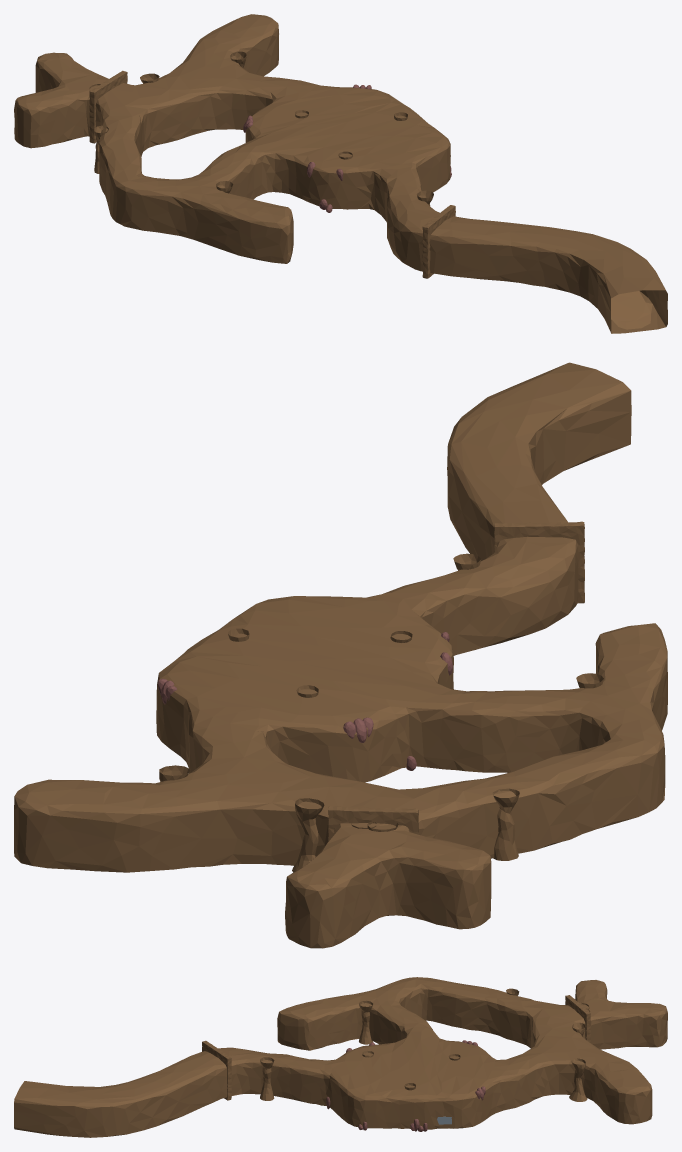
Rendered from Level1_Backup3.fbx.
3 renders of one model, top to bottom at view 1: azimuth 30°, elevation 25°; view 2: azimuth 150°, elevation 25°; view 3: azimuth 270°, elevation 25°, orthographic. The views are drawn at different scales.
Visible parts, largest first — view 1: Cave, CaveExit.001, CaveExit; view 2: Cave, CaveExit, CaveExit.001, Cylinder.004, Cylinder.003; view 3: Cave, CaveExit, Cylinder.007, Cylinder.008, Cylinder.005, CaveExit.001.
Boxes of the visible parts, x1,y1,x2,y2 form: Cave: [14, 14, 667, 333]; CaveExit.001: [89, 70, 127, 143]; CaveExit: [422, 205, 455, 278]; Cave: [14, 362, 667, 948]; CaveExit: [494, 521, 584, 603]; CaveExit.001: [328, 806, 418, 840]; Cylinder.004: [492, 788, 519, 860]; Cylinder.003: [292, 798, 324, 872]; Cave: [14, 977, 667, 1137]; CaveExit: [202, 1040, 231, 1100]; Cylinder.007: [569, 1058, 587, 1101]; Cylinder.008: [260, 1057, 274, 1100]; Cylinder.005: [359, 1000, 372, 1044]; CaveExit.001: [565, 995, 590, 1042].
Bounding box in the file's own units: 124 × 264 × 19.25.
Materials: 18 (8 with a texture image).
